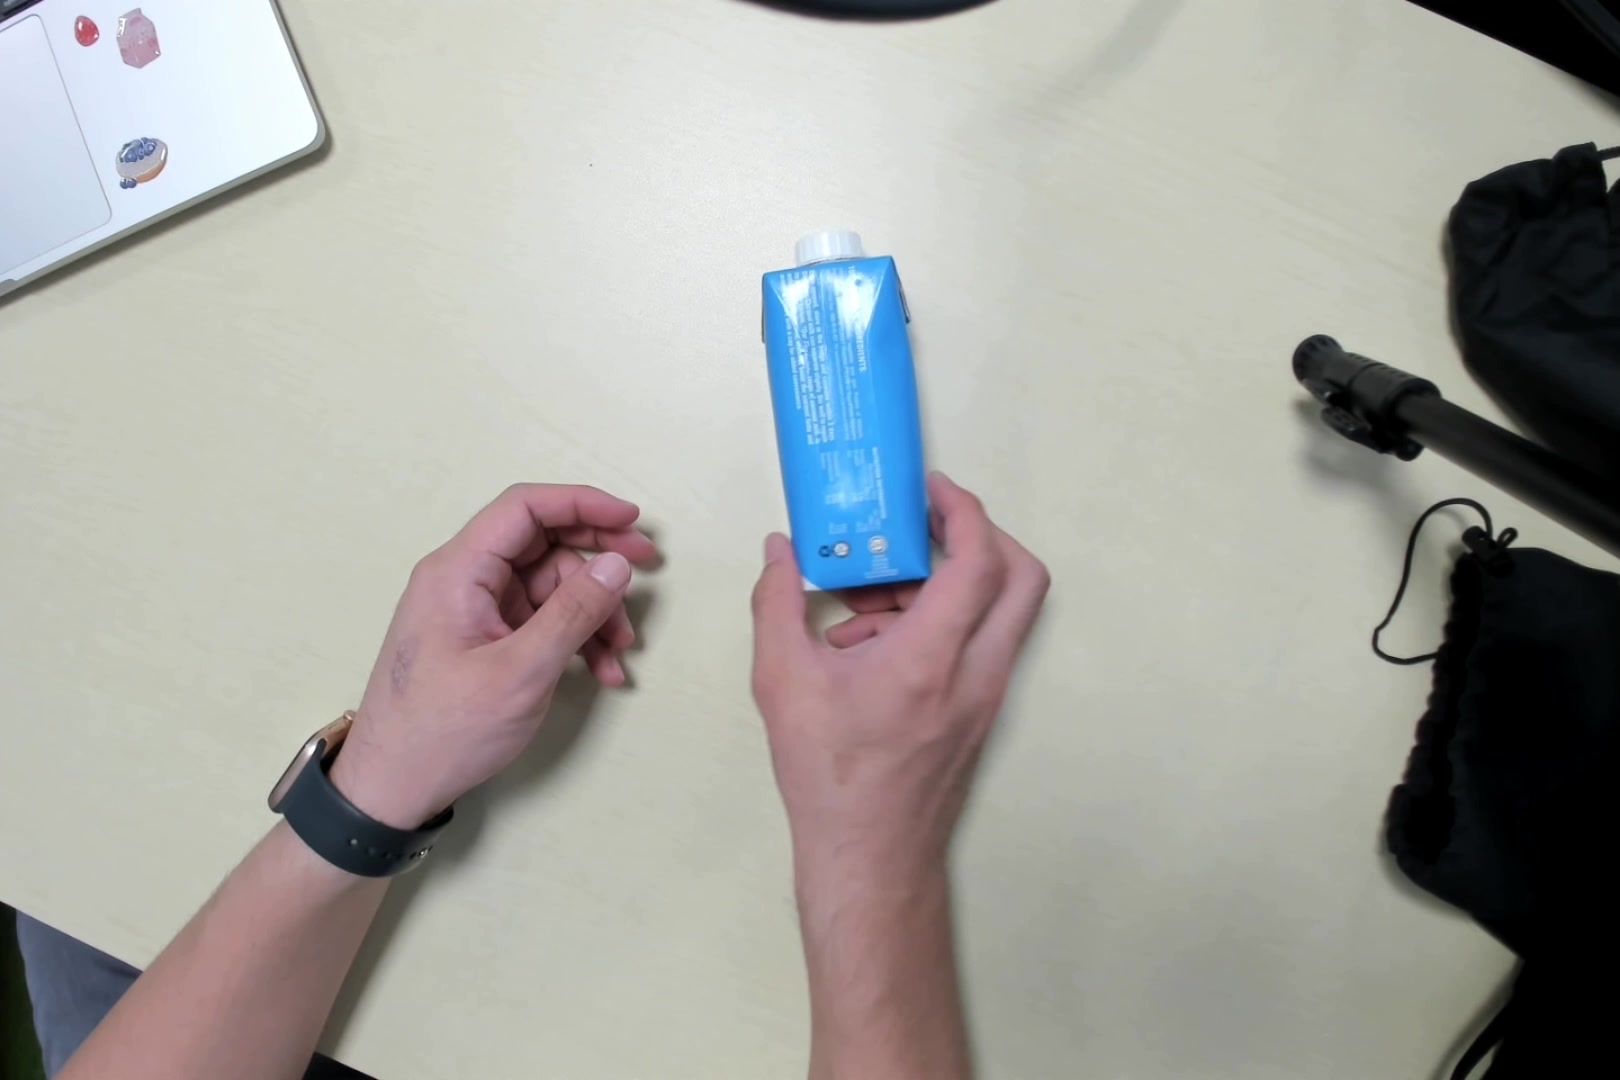CookingCreamMilk_300-399g_Halal_NonHealthy: (764, 229, 926, 591)
